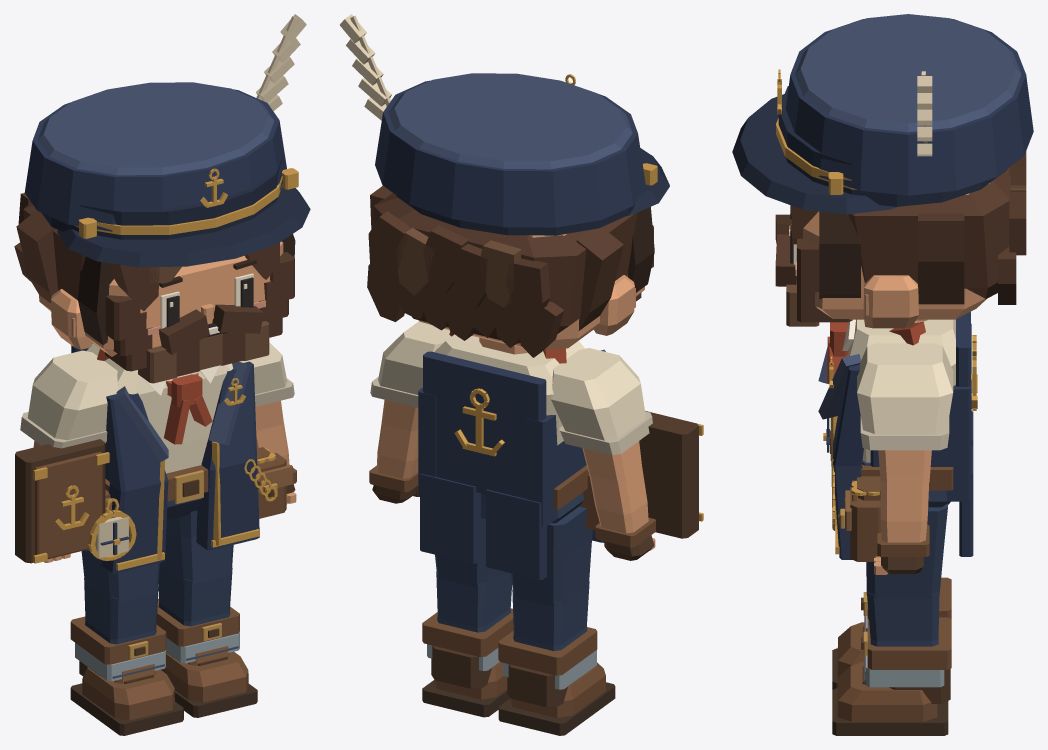
Rendered from merchant_captain.glb.
3 renders of one model, left to right at view 1: azimuth 30°, elevation 25°; view 2: azimuth 150°, elevation 25°; view 3: azimuth 270°, elevation 25°, orthographic. The views are drawn at different scales.
Visible parts, largest first — view 1: merchant_captain__Hat_merchant_captain_navy_light, merchant_captain__Coat_merchant_captain_navy, merchant_captain__Hat_merchant_captain_navy_dark, merchant_captain__Hat_merchant_captain_navy, merchant_captain__Beard_merchant_captain_hair, merchant_captain__Head_merchant_captain_hair, merchant_captain__Head_merchant_captain_skin, merchant_captain__Arm_L_merchant_captain_shirt, merchant_captain__TradeLedger_merchant_captain_leather, merchant_captain__Spine_merchant_captain_shirt, merchant_captain__TradeLedger_merchant_captain_leather_dark, merchant_captain__Foot_L_merchant_captain_leather (+33 smaller); view 2: merchant_captain__Coat_merchant_captain_navy, merchant_captain__Head_merchant_captain_hair, merchant_captain__Hat_merchant_captain_navy_light, merchant_captain__Hat_merchant_captain_navy, merchant_captain__Arm_L_merchant_captain_shirt, merchant_captain__TradeLedger_merchant_captain_leather_dark, merchant_captain__Thigh_L_merchant_captain_denim, merchant_captain__Head_merchant_captain_hair_light, merchant_captain__Shin_L_merchant_captain_denim, merchant_captain__Shin_R_merchant_captain_denim, merchant_captain__Spine_merchant_captain_shirt, merchant_captain__Arm_R_merchant_captain_shirt (+25 smaller); view 3: merchant_captain__Hat_merchant_captain_navy_light, merchant_captain__Head_merchant_captain_hair, merchant_captain__Hat_merchant_captain_navy, merchant_captain__Hat_merchant_captain_navy_dark, merchant_captain__Coat_merchant_captain_navy, merchant_captain__Arm_R_merchant_captain_shirt, merchant_captain__Head_merchant_captain_skin, merchant_captain__Foot_R_merchant_captain_leather, merchant_captain__Shin_R_merchant_captain_denim, merchant_captain__Head_merchant_captain_hair_dark, merchant_captain__Beard_merchant_captain_hair, merchant_captain__Thigh_R_merchant_captain_denim (+21 smaller).
Boxes of the visible parts, x1,y1,x2,y2 form: merchant_captain__Hat_merchant_captain_navy_light: (38, 82, 274, 175); merchant_captain__Coat_merchant_captain_navy: (71, 343, 259, 573); merchant_captain__Hat_merchant_captain_navy_dark: (42, 156, 310, 267); merchant_captain__Hat_merchant_captain_navy: (24, 89, 286, 231); merchant_captain__Beard_merchant_captain_hair: (105, 252, 294, 376); merchant_captain__Head_merchant_captain_hair: (14, 193, 279, 310); merchant_captain__Head_merchant_captain_skin: (39, 241, 283, 356); merchant_captain__Arm_L_merchant_captain_shirt: (27, 350, 118, 440); merchant_captain__TradeLedger_merchant_captain_leather: (35, 452, 102, 557); merchant_captain__Spine_merchant_captain_shirt: (87, 343, 232, 473); merchant_captain__TradeLedger_merchant_captain_leather_dark: (15, 439, 105, 563); merchant_captain__Foot_L_merchant_captain_leather: (82, 667, 174, 720); merchant_captain__Coat_merchant_captain_navy: (418, 351, 603, 579); merchant_captain__Head_merchant_captain_hair: (367, 186, 637, 357); merchant_captain__Hat_merchant_captain_navy_light: (388, 73, 632, 169); merchant_captain__Hat_merchant_captain_navy: (375, 80, 645, 227); merchant_captain__Arm_L_merchant_captain_shirt: (551, 348, 645, 440); merchant_captain__TradeLedger_merchant_captain_leather_dark: (639, 411, 698, 538); merchant_captain__Thigh_L_merchant_captain_denim: (511, 506, 592, 606); merchant_captain__Head_merchant_captain_hair_light: (396, 227, 521, 307); merchant_captain__Shin_L_merchant_captain_denim: (512, 582, 589, 650); merchant_captain__Shin_R_merchant_captain_denim: (436, 571, 512, 632); merchant_captain__Spine_merchant_captain_shirt: (434, 334, 584, 445); merchant_captain__Arm_R_merchant_captain_shirt: (378, 321, 451, 394); merchant_captain__Hat_merchant_captain_navy_light: (795, 14, 1021, 132); merchant_captain__Head_merchant_captain_hair: (792, 155, 1026, 304); merchant_captain__Hat_merchant_captain_navy: (785, 18, 1033, 195); merchant_captain__Hat_merchant_captain_navy_dark: (732, 86, 1006, 214); merchant_captain__Coat_merchant_captain_navy: (833, 311, 973, 559); merchant_captain__Arm_R_merchant_captain_shirt: (857, 343, 953, 434); merchant_captain__Head_merchant_captain_skin: (789, 183, 989, 328); merchant_captain__Foot_R_merchant_captain_leather: (837, 662, 937, 721); merchant_captain__Shin_R_merchant_captain_denim: (867, 592, 939, 646); merchant_captain__Head_merchant_captain_hair_dark: (790, 205, 860, 299); merchant_captain__Beard_merchant_captain_hair: (775, 214, 852, 322); merchant_captain__Thigh_R_merchant_captain_denim: (866, 503, 947, 599).
Size of the model in its own units: 0.9273 by 1.81 by 0.7031.
